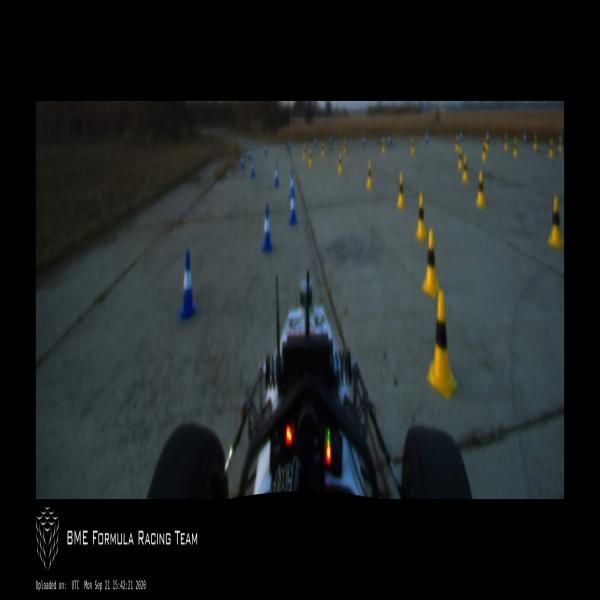blue_cone: (178, 251, 196, 319), (261, 207, 272, 252), (288, 187, 297, 224), (288, 170, 296, 199), (274, 163, 279, 187), (250, 159, 255, 179), (240, 152, 244, 170), (264, 143, 267, 156), (388, 133, 391, 146), (425, 130, 428, 143), (248, 148, 250, 161), (288, 138, 290, 150), (363, 134, 365, 146), (524, 132, 526, 144), (330, 135, 332, 146), (460, 131, 462, 142), (314, 136, 316, 146)
yellow_cone: (427, 291, 456, 398), (422, 230, 439, 297), (548, 193, 564, 248), (415, 193, 427, 238), (476, 170, 485, 206), (397, 176, 406, 209), (458, 146, 464, 169), (463, 155, 468, 182), (367, 164, 372, 189), (513, 137, 518, 158), (533, 132, 538, 150), (549, 137, 553, 158), (338, 154, 342, 174), (482, 140, 486, 160), (504, 132, 508, 152), (410, 136, 414, 155), (455, 135, 459, 151), (558, 136, 562, 152), (309, 148, 312, 167), (382, 135, 385, 153), (303, 143, 306, 159), (343, 138, 346, 153), (322, 140, 324, 156), (486, 135, 488, 151)
